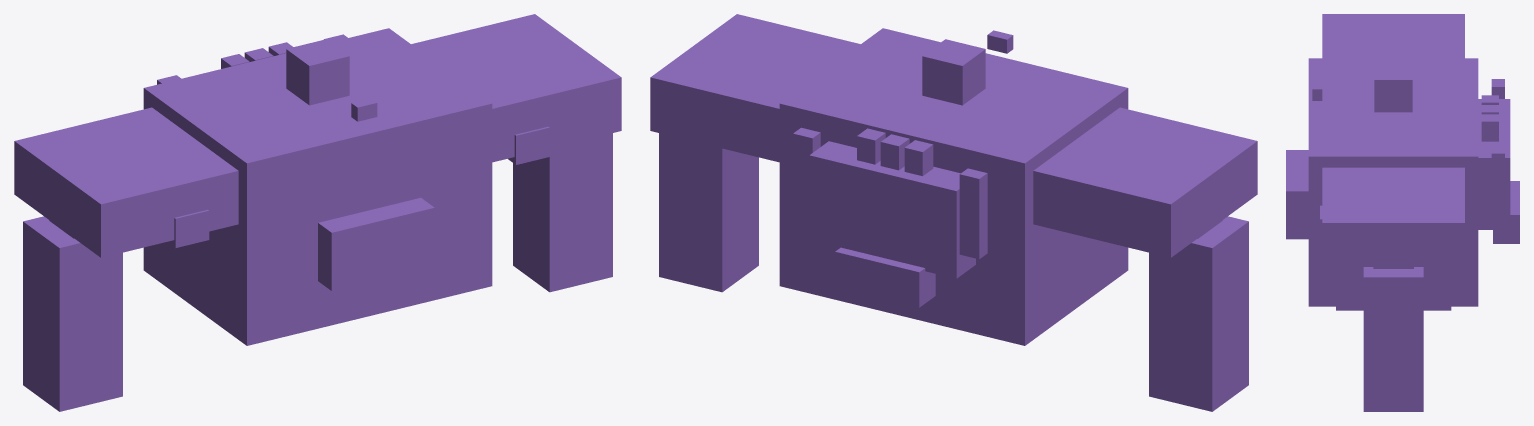
Rendered from mechfall_stego.obj.
3 renders of one model, left to right at view 1: azimuth 30°, elevation 25°; view 2: azimuth 150°, elevation 25°; view 3: azimuth 270°, elevation 25°, orthographic. The views are drawn at different scales.
Visible parts, largest first — view 1: mechfall_stego; view 2: mechfall_stego; view 3: mechfall_stego.
Boxes of the visible parts, x1,y1,x2,y2 form: mechfall_stego: (14,14,621,411); mechfall_stego: (650,14,1257,411); mechfall_stego: (1286,14,1519,411).
Bounding box in the file's own units: 7.9 × 3.8 × 3.51.
